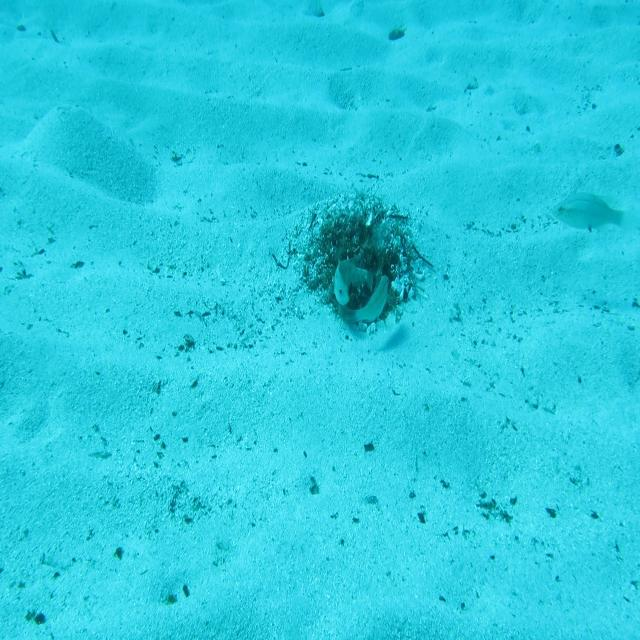DAN_CIRC: (331, 254, 375, 307)
female: (339, 272, 392, 328)
nest: (307, 184, 426, 324)
other_fish: (554, 180, 640, 238)
